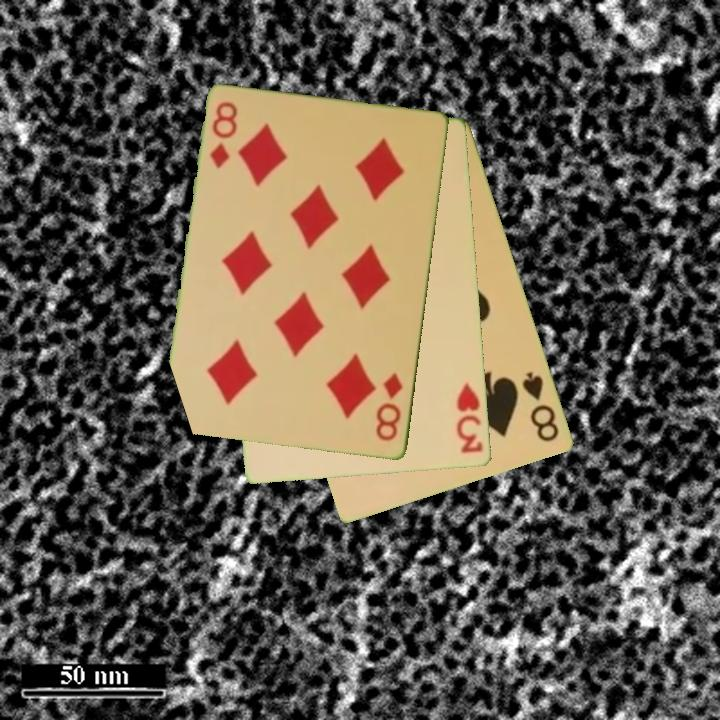3h: (454, 380, 487, 457)
8d: (373, 370, 406, 444), (207, 98, 240, 172)
8s: (519, 368, 563, 445)
